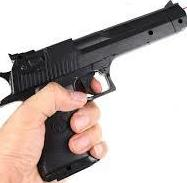gun: (1, 1, 187, 183)
